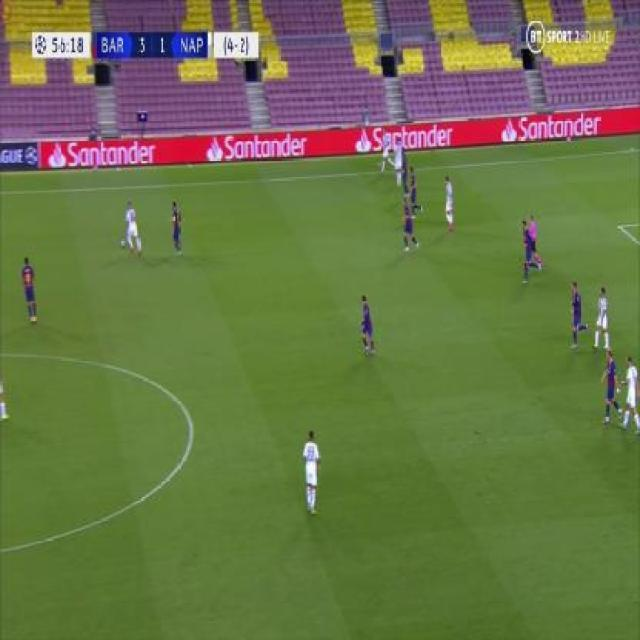ball: (120, 236, 126, 249)
player: (301, 422, 323, 516), (599, 349, 621, 425), (619, 353, 639, 432), (566, 278, 586, 351), (19, 254, 39, 325), (524, 212, 544, 281), (593, 285, 613, 353), (358, 292, 377, 360), (123, 199, 143, 256), (399, 198, 419, 254), (519, 214, 535, 283), (166, 198, 183, 257), (441, 173, 457, 233), (406, 163, 422, 214), (379, 124, 393, 173), (400, 146, 411, 195), (394, 135, 402, 188)
